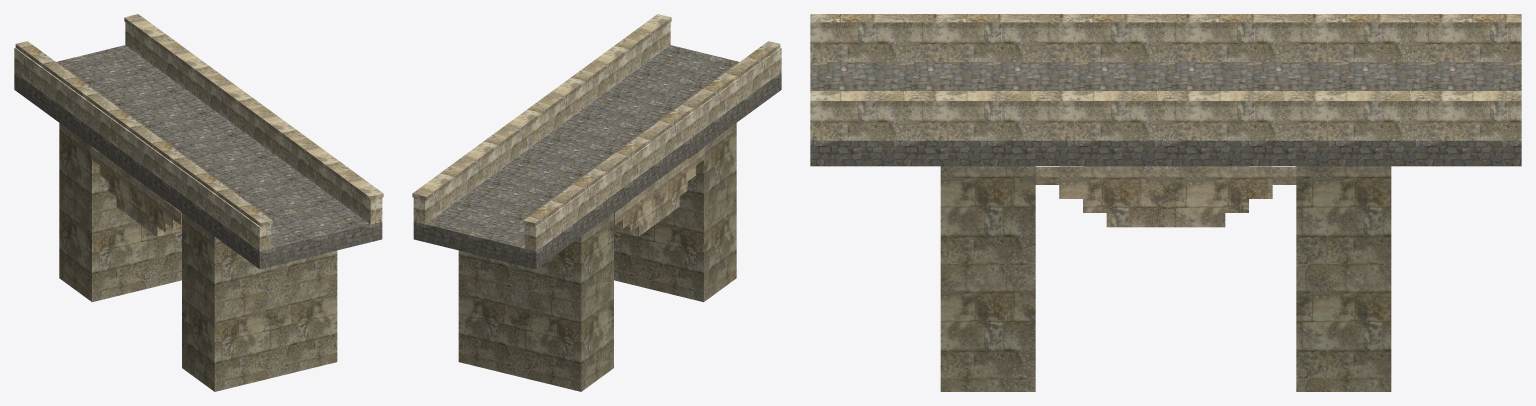
Rendered from bw-bridge.zfix-v6.lod1.glb.
3 renders of one model, left to right at view 1: azimuth 30°, elevation 25°; view 2: azimuth 150°, elevation 25°; view 3: azimuth 270°, elevation 25°, orthographic. The views are drawn at different scales.
Parts seen in each view (by area): view 1: bw-bridge; view 2: bw-bridge; view 3: bw-bridge.
Part boxes in pixels (x1,y1,x2,y2): bw-bridge: (14,14,383,391); bw-bridge: (412,14,781,391); bw-bridge: (810,14,1521,391).
Bounding box in the file's own units: 5.29 × 8.15 × 18.
Materials: 2 (2 with a texture image).
